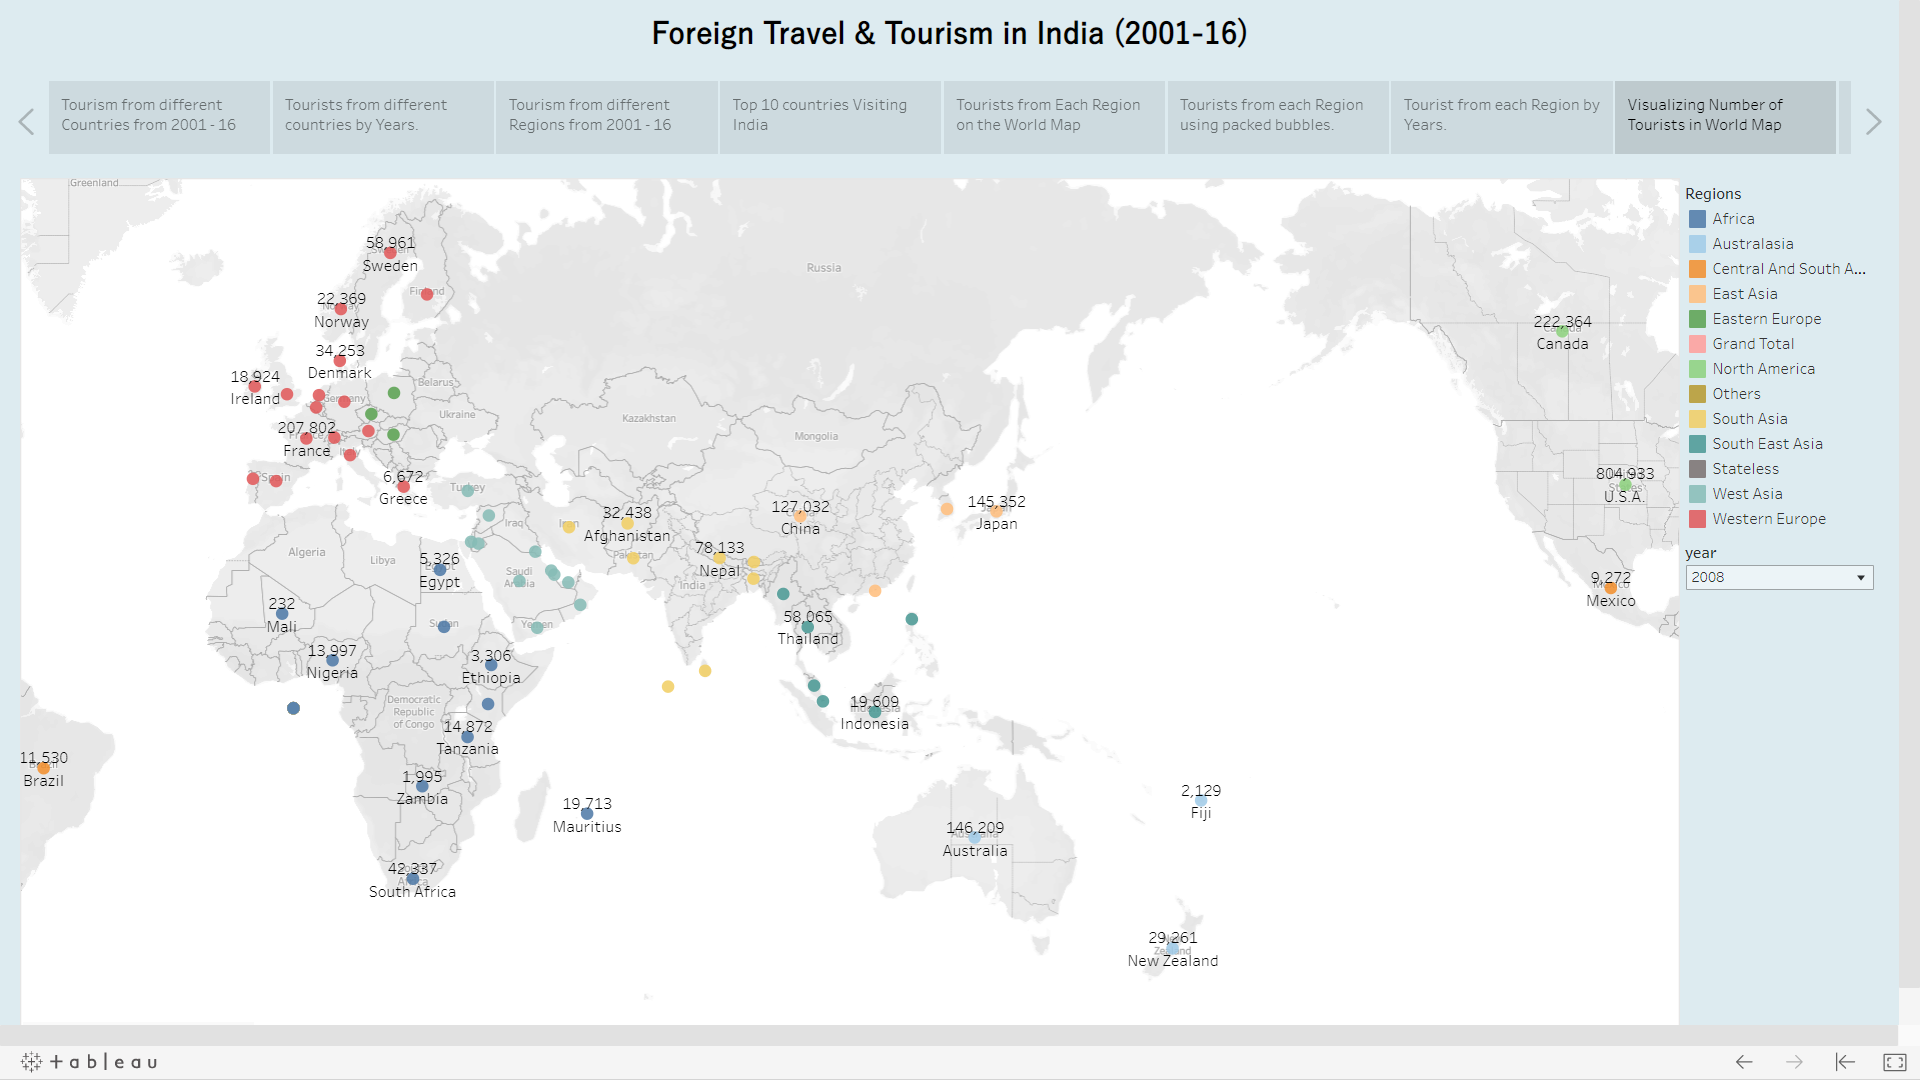

The page's visual inventory and layout, read from the dashboard file:
{"tool":"tableau","page":{"name":"By Years","canvas":[1520,700],"ordinal":2},"visuals":[{"type":"worksheet","box":[0,0,1520,700]},{"type":"worksheet","param":"[Parameters].[Parameter 1]","box":[1016.9,6.1,243.2,48.1]},{"type":"worksheet","param":"horz","box":[8,8,1504,684]},{"type":"worksheet","box":[8,8,1504,684]},{"type":"worksheet","title":"Number of Tourists in each Year","mark":"Automatic","cols":["F1"],"box":[8,8,1267,289.6]},{"type":"worksheet","title":"Number of Tourists in each Year","mark":"Automatic","cols":["F1"],"param":"[federated.0m8pxyp08y5cd51do6m1t1b7czdd].[none:F1:nk]","box":[1275,8,237,289.6]},{"type":"worksheet","title":"Number of Tourists in  World map","mark":"Automatic","param":"[federated.0m8pxyp08y5cd51do6m1t1b7czdd].[none:F1:nk]","box":[8,297.6,1504,52.4]},{"type":"worksheet","title":"Number of Tourists in  World map","mark":"Automatic","box":[8,350,1504,342]}]}

Visuals, with their boxes on the page's 1520x700 design canvas (x1, y1, x2, y2). These are canvas units, not pixel positions in the 1920x1080 screenshot, which may show the page scaled, cropped or inside an application window:
worksheet: [left=0, top=0, right=1520, bottom=700]
worksheet: [left=1017, top=6, right=1260, bottom=54]
worksheet: [left=8, top=8, right=1512, bottom=692]
worksheet: [left=8, top=8, right=1512, bottom=692]
"Number of Tourists in each Year" worksheet: [left=8, top=8, right=1275, bottom=298]
"Number of Tourists in each Year" worksheet: [left=1275, top=8, right=1512, bottom=298]
"Number of Tourists in  World map" worksheet: [left=8, top=298, right=1512, bottom=350]
"Number of Tourists in  World map" worksheet: [left=8, top=350, right=1512, bottom=692]
